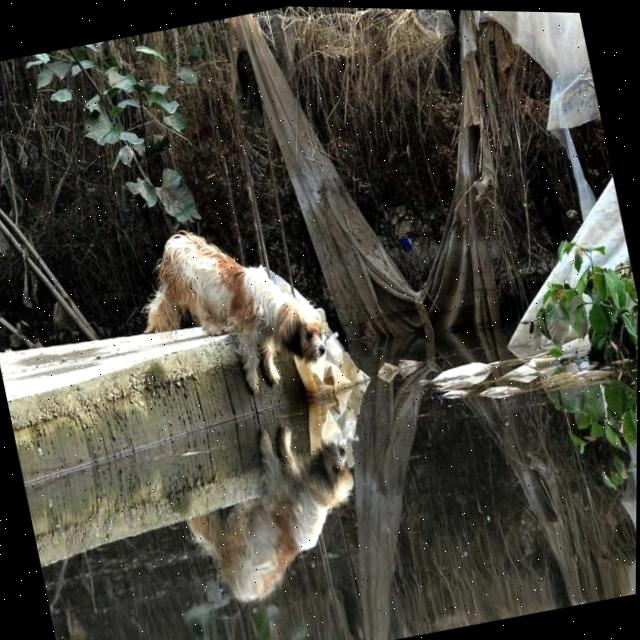dog: (128, 205, 346, 416)
